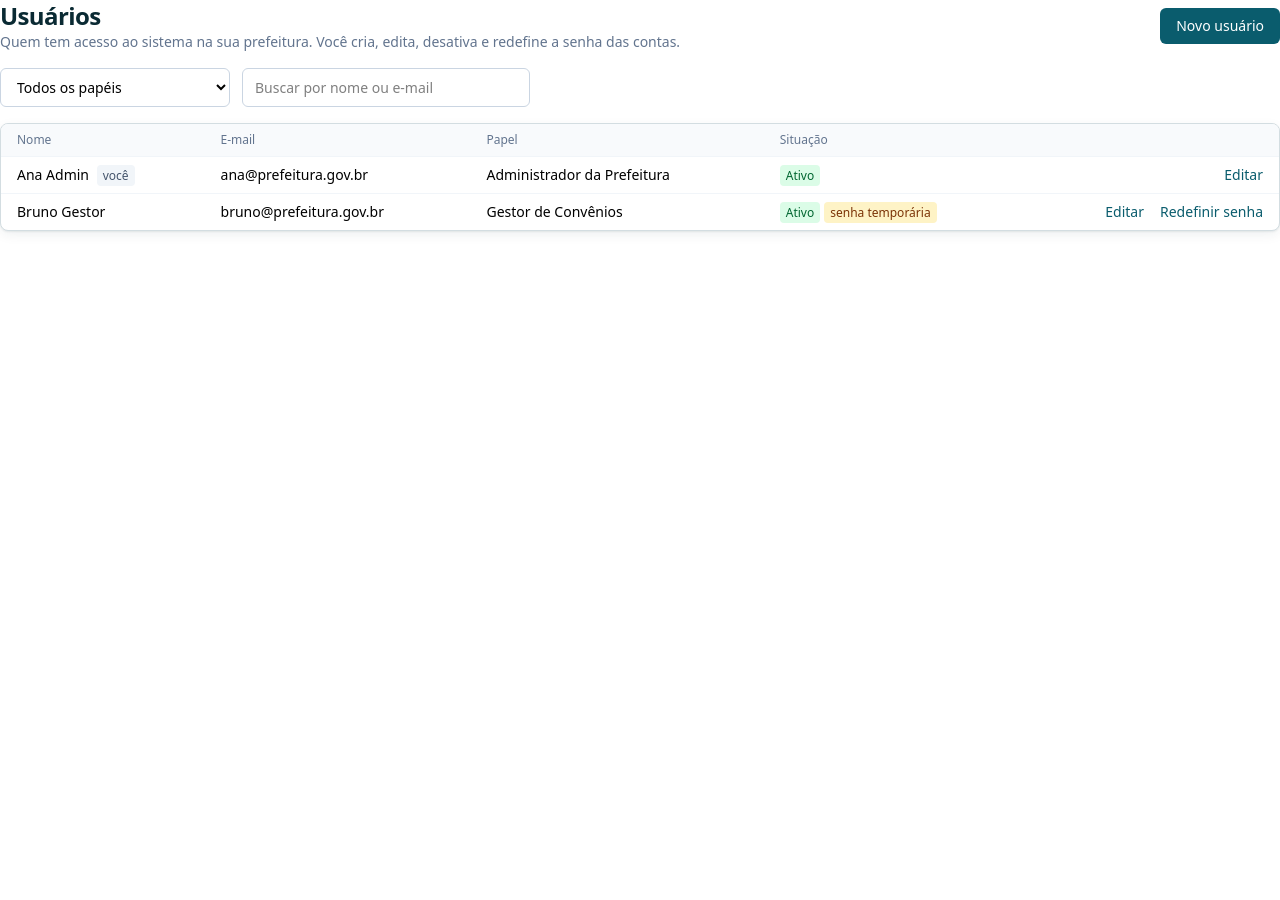
Test: tela de usuários › redefinir pede confirmação e mostra a nova senha temporária uma vez
Click the button "Redefinir senha" at (1212,212), box x1=1160 y1=202 x2=1263 y2=222
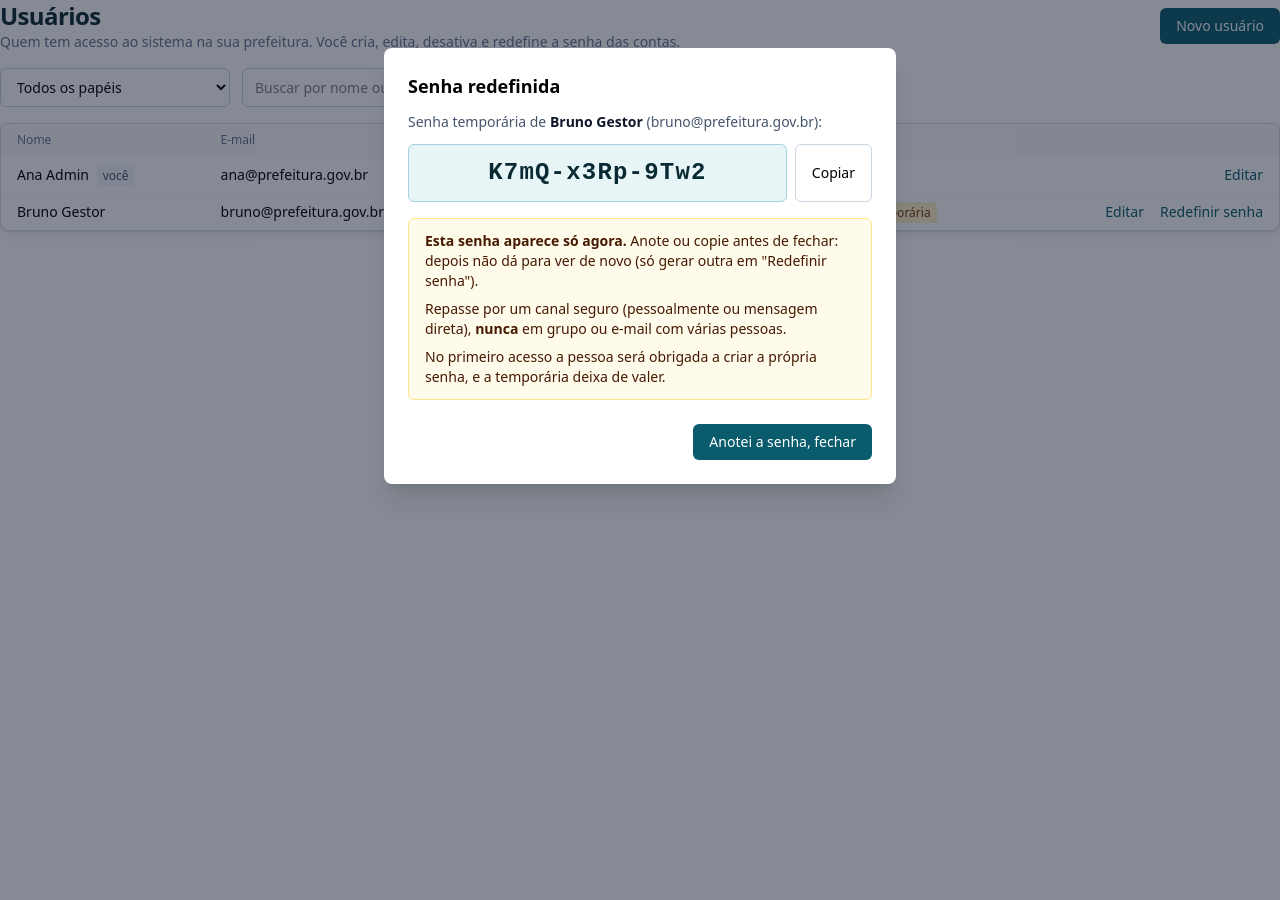
Expected: the text "K7mQ-x3Rp-9Tw2" is shown, x1=408 y1=144 x2=787 y2=202
Expected: the text "Senha redefinida" is shown, x1=408 y1=74 x2=560 y2=98
